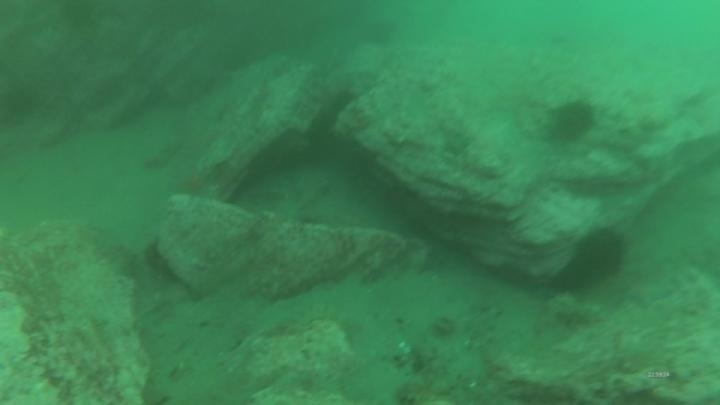echinus: (573, 225, 629, 282), (547, 97, 598, 145), (359, 16, 400, 50)
holothurian: (543, 291, 605, 330), (396, 381, 445, 405)
starfish: (169, 163, 217, 201), (621, 277, 674, 311)
